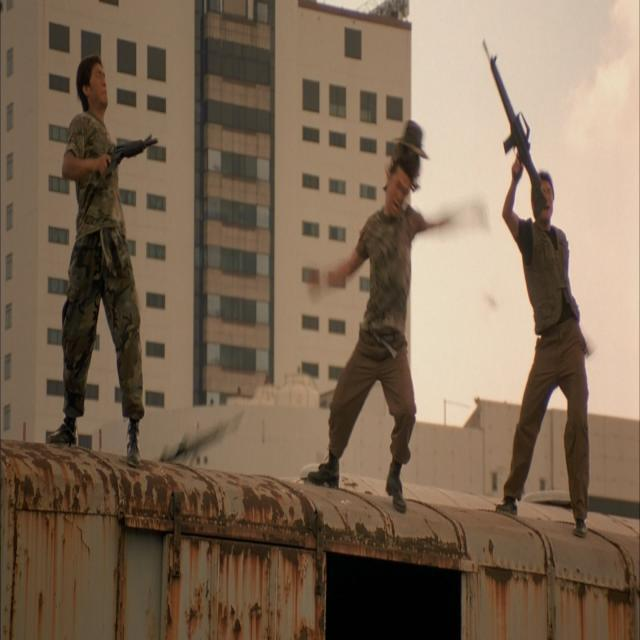gun-knife-thesis - v11 Yolov5 augmented: (475, 21, 556, 232), (84, 109, 161, 244)
